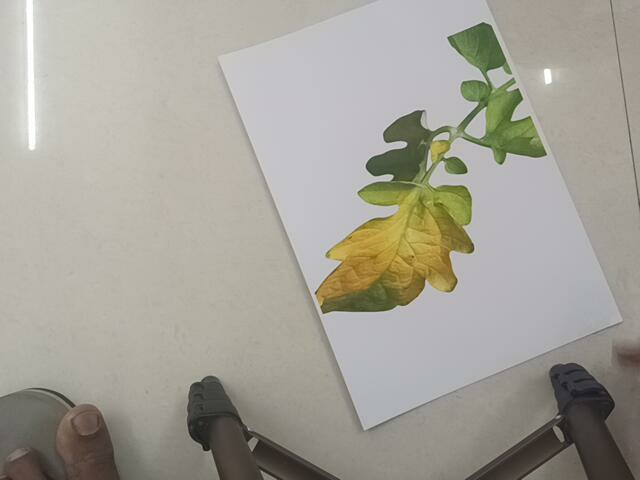Tomamto_Yellow_Disease: (314, 29, 549, 313)
